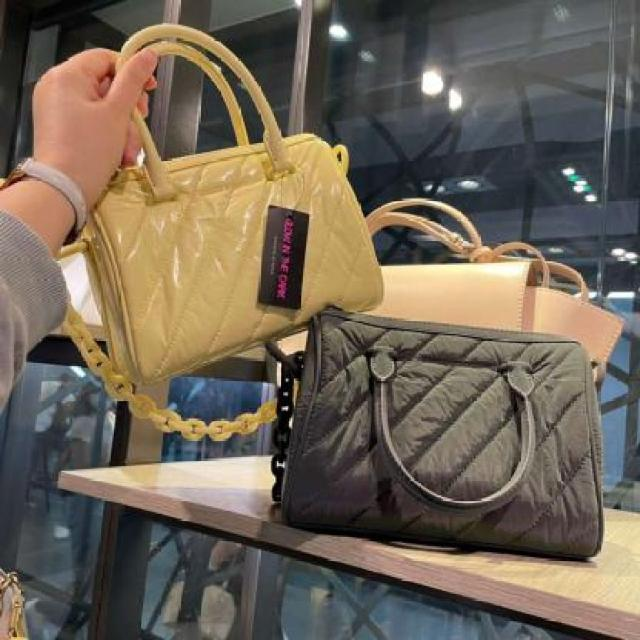Bag: (0, 2, 403, 468), (257, 258, 640, 625)
